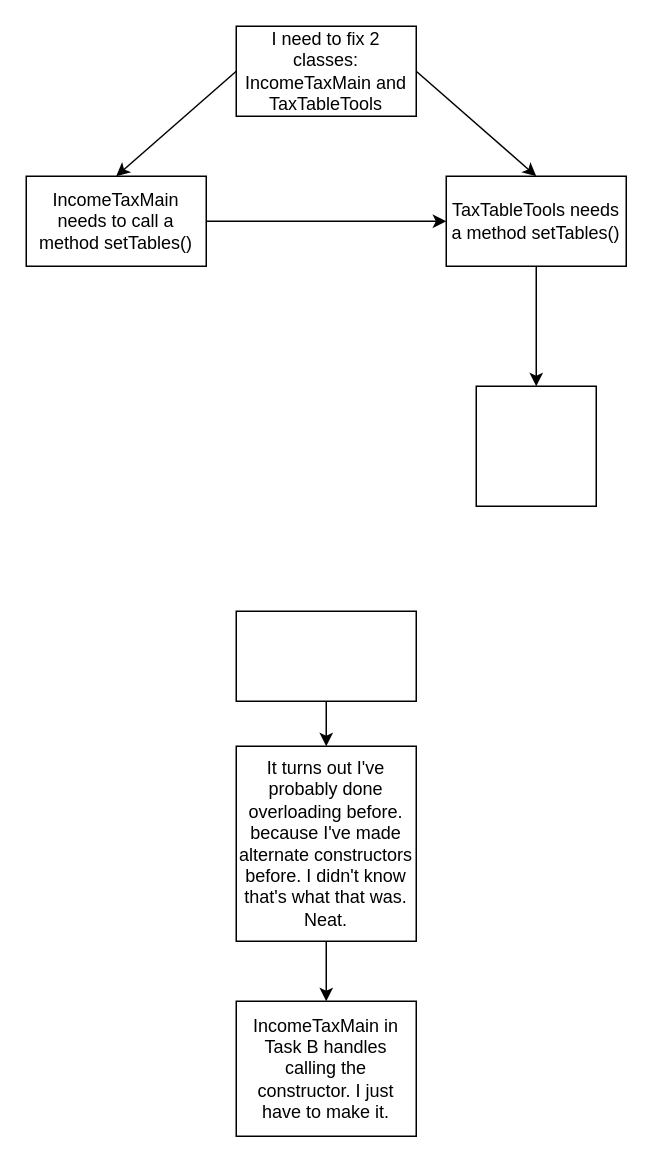
The diagram is 653 pixels wide and 1163 high, and some of its shapes have lost their labels. Here are the shapes that lost their labels. From the top down, the centre of each, then its label:
the point at 535,445: Idea: Send full arrays to TaxTableTools' setTables() method
the point at 325,655: Time for Task B, I need to overload the constructors.
